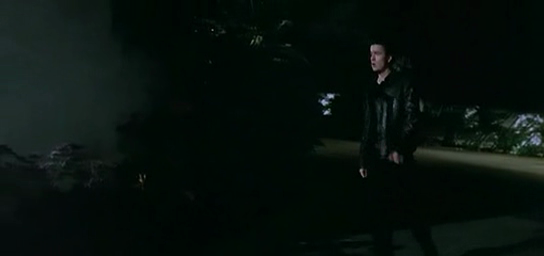face: (369, 43, 387, 70)
ls: (1, 1, 544, 256)
person: (357, 37, 425, 255)
